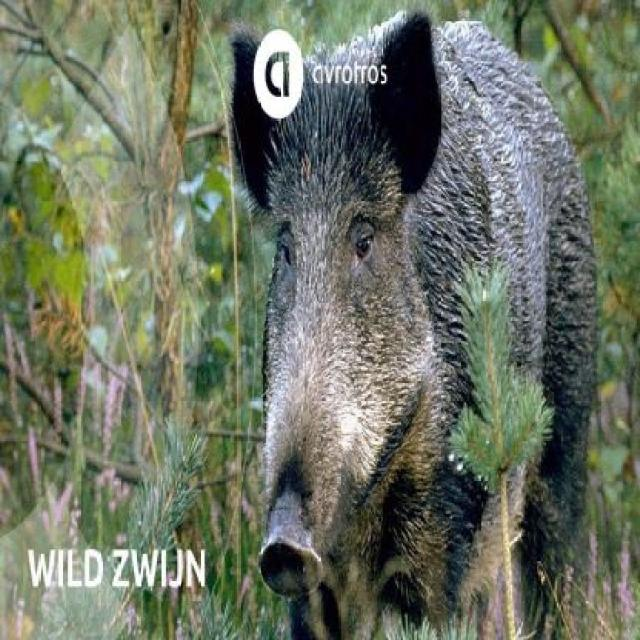wildboar: (224, 6, 607, 640)
